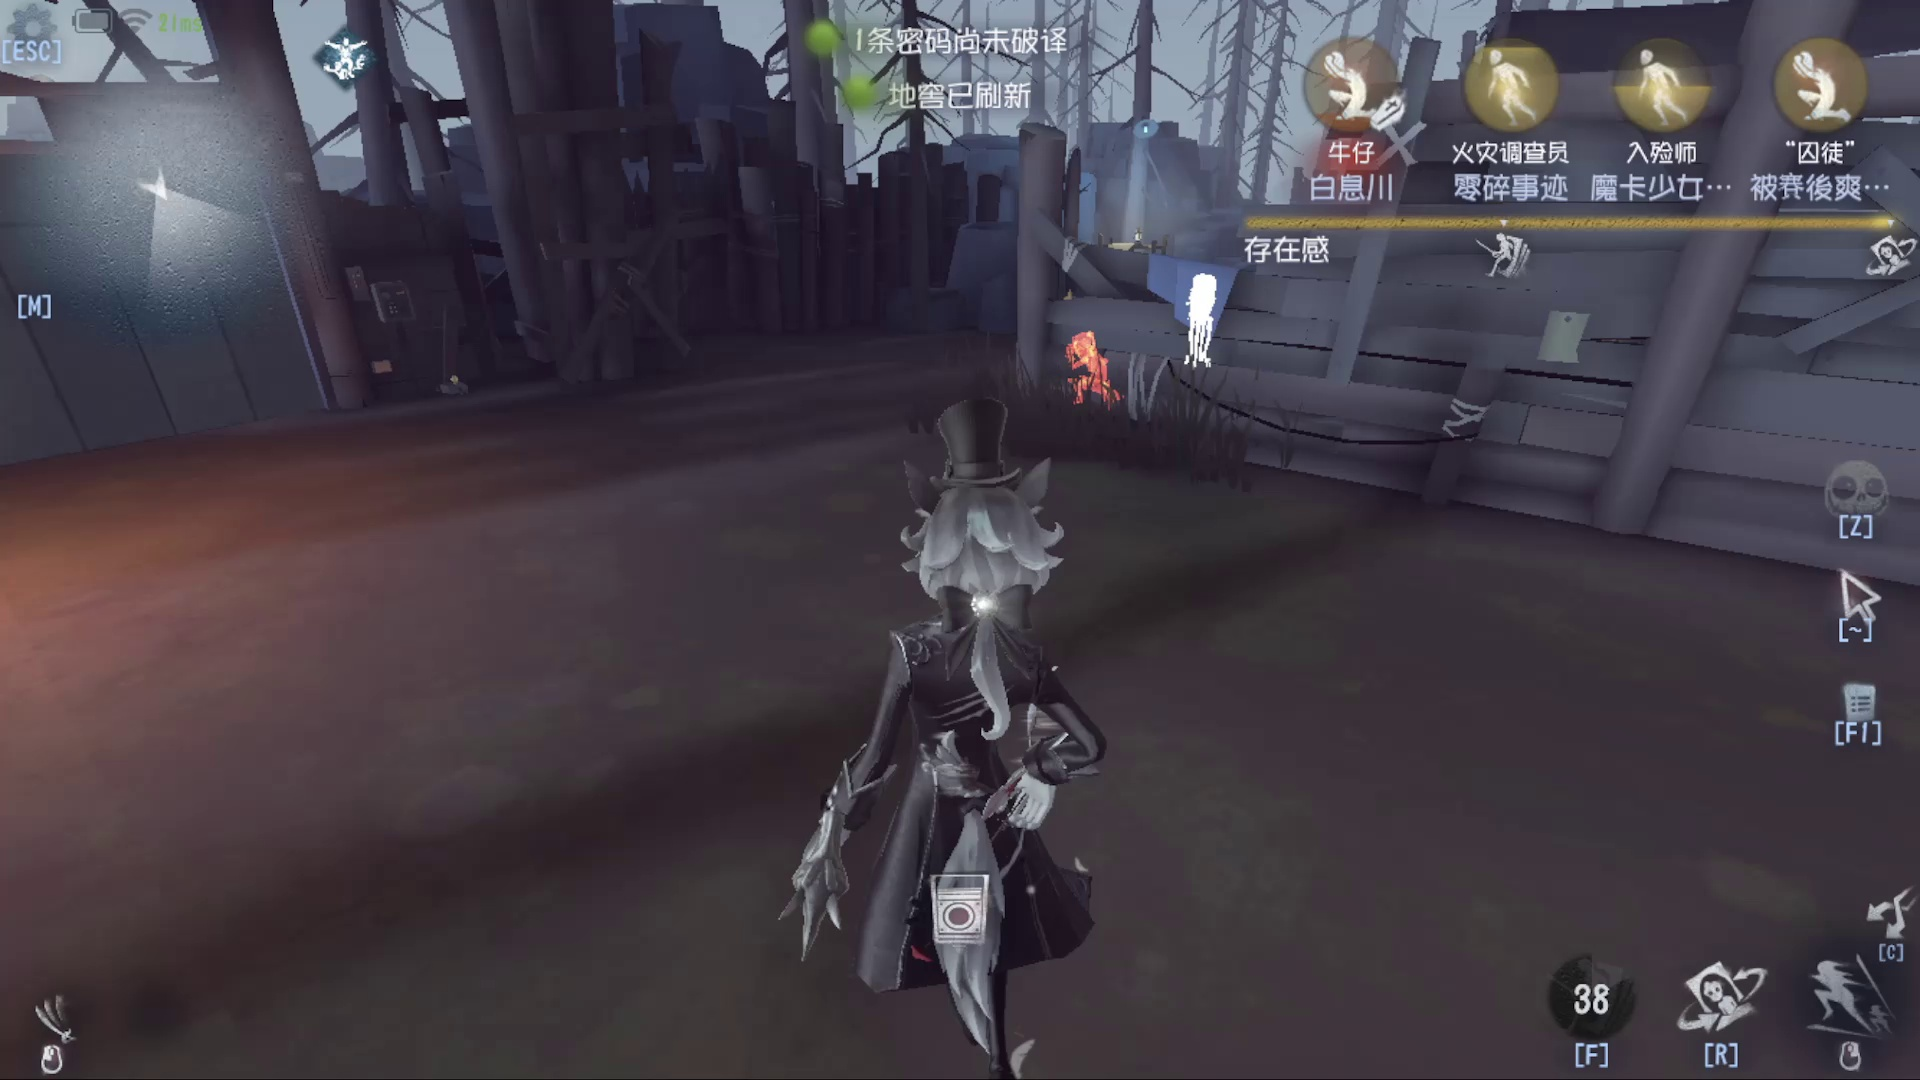求生者: (1043, 316, 1125, 415)
